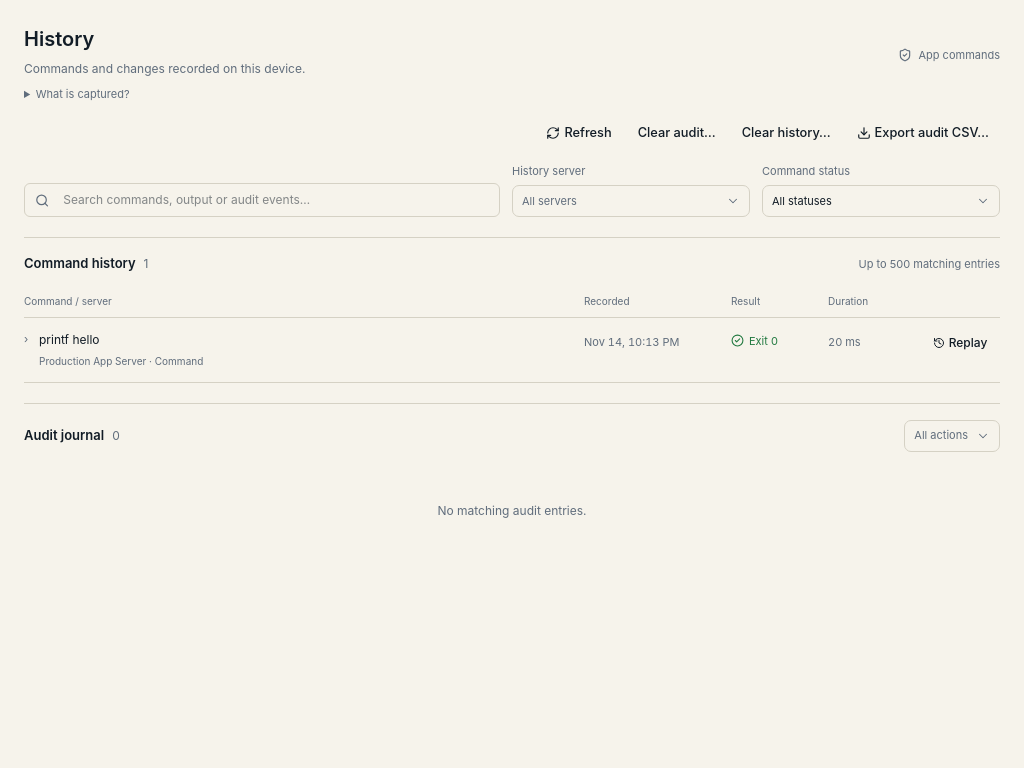
it: History review and audit confirmation › reviews the exact command and server before replay and displays output
Step 1. Click the button "Replay" → click(960, 342), box [920, 330, 1000, 354]
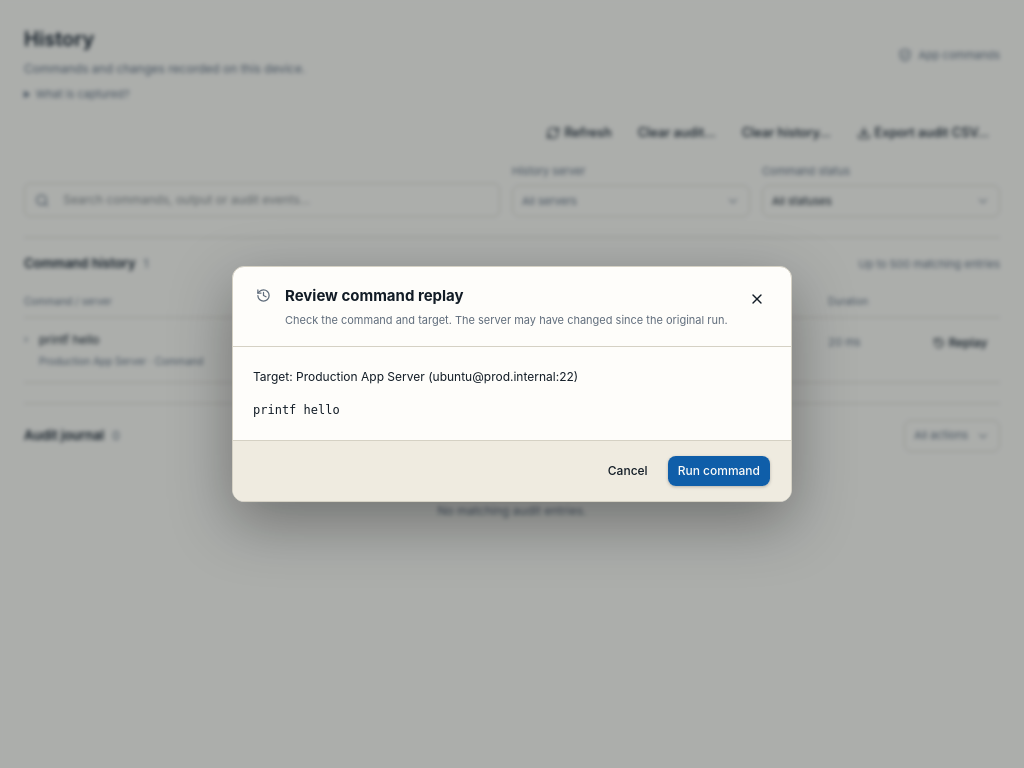
Result: the text "printf hello" is shown at [253, 402, 340, 416]
Result: the dialog shows "prod.internal" at [296, 369, 578, 384]
Step 2. Click the button "Run command" → click(719, 471), box [667, 455, 771, 487]
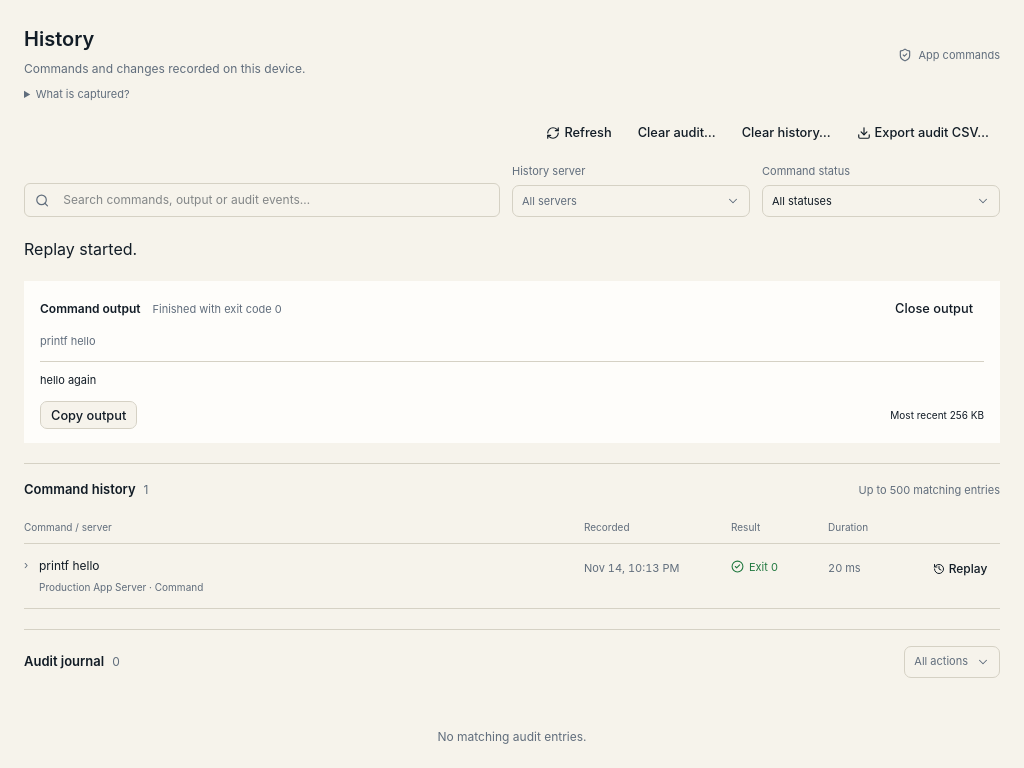
Result: the text "hello again" is shown at [40, 373, 96, 387]
Result: the text "Finished with exit code 0" is shown at [152, 301, 282, 317]
